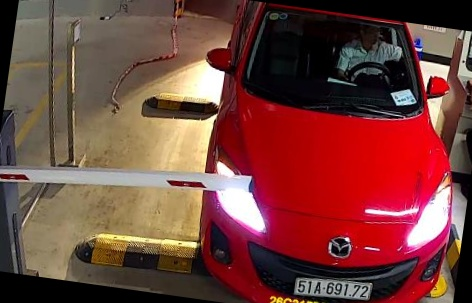plate: (293, 268, 377, 302)
